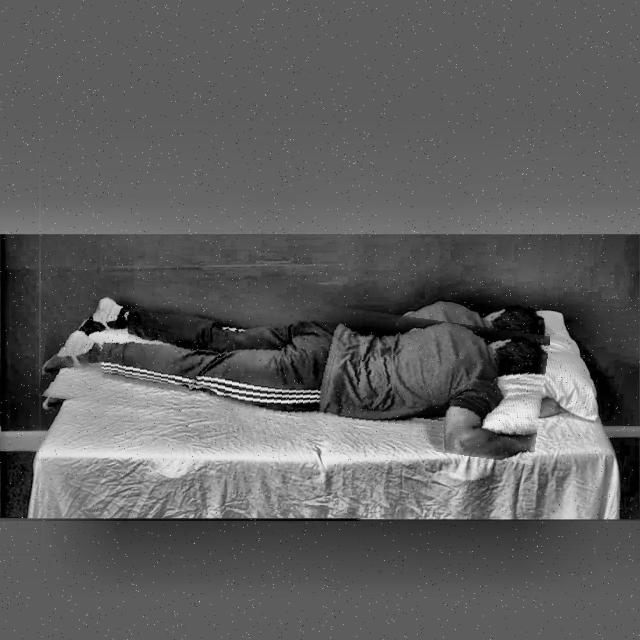Not_Supine: (42, 299, 547, 459)
